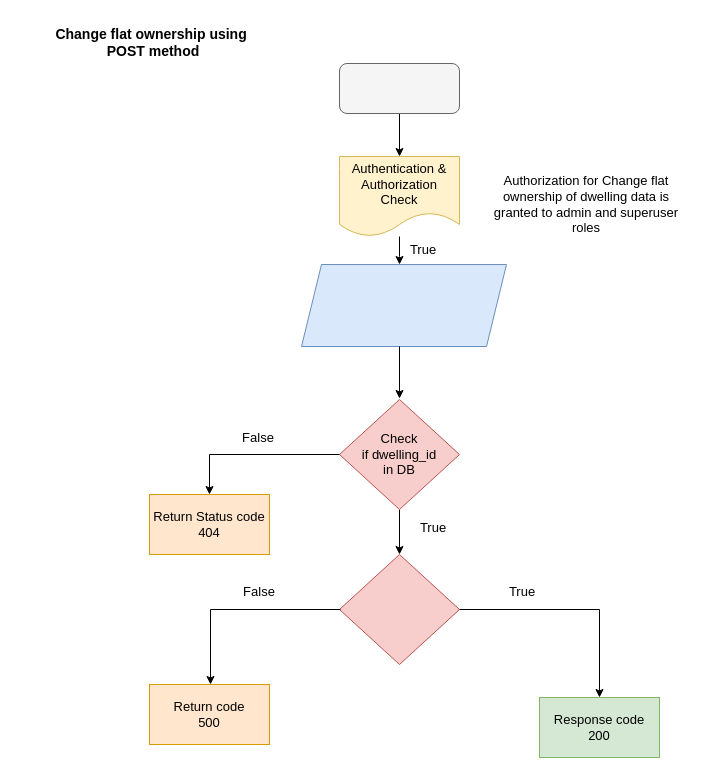
The diagram is 703 pixels wide and 775 high, and some of its shapes have lost their labels. The centre of each missing label's shape, as x and y in pixels:
Change flat ownership of dwelling: the point at 399,88
get input from path parameter {dwelling_id}: the point at 403,305
Try / Exception: the point at 399,609
